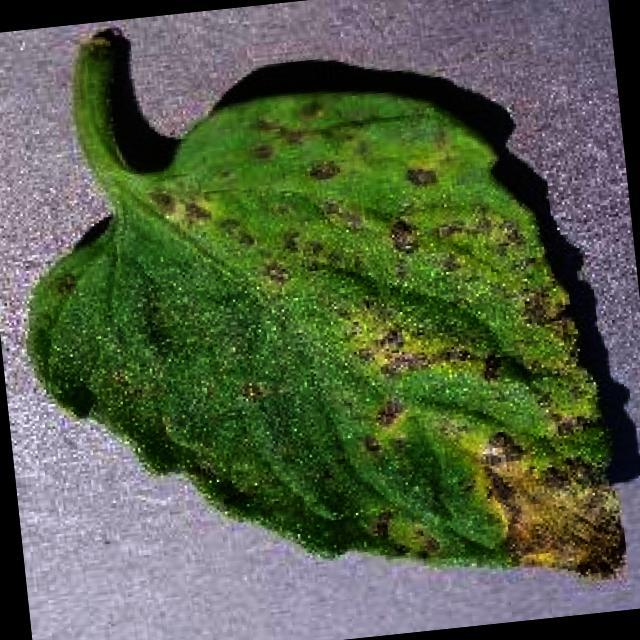Tomato Septoria spot leaf: (12, 64, 630, 632)
